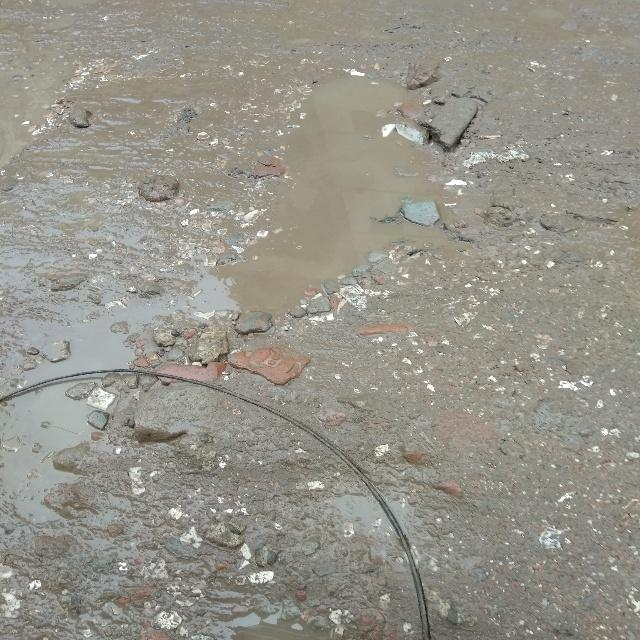Surface Erosion: (49, 4, 630, 568)
